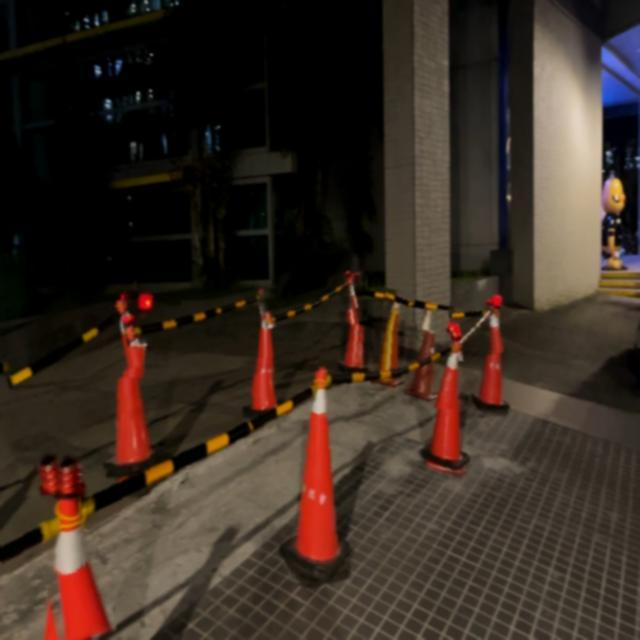traffic cone: (30, 456, 123, 640), (279, 367, 352, 586), (101, 292, 164, 479), (103, 338, 159, 478), (420, 343, 470, 476), (242, 309, 294, 417), (472, 296, 511, 413), (243, 311, 280, 414), (404, 303, 440, 402), (337, 279, 369, 373), (376, 303, 404, 387), (39, 599, 68, 640)
